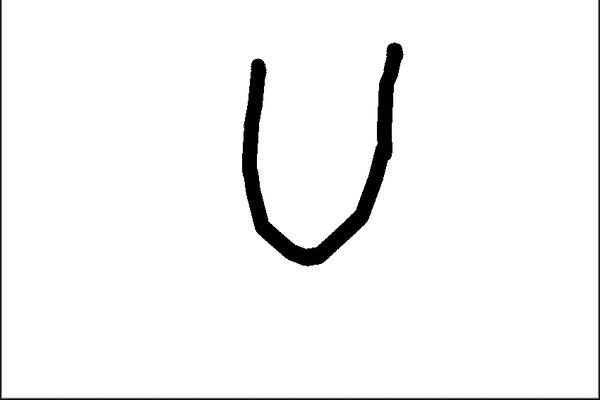U: (230, 29, 406, 264)
